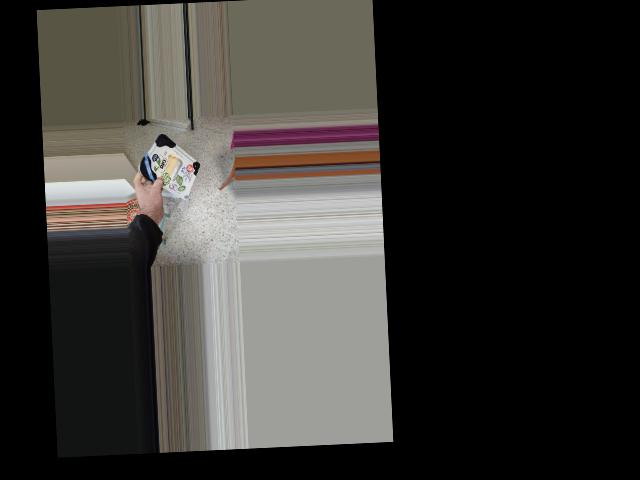cheese: (135, 133, 207, 197)
